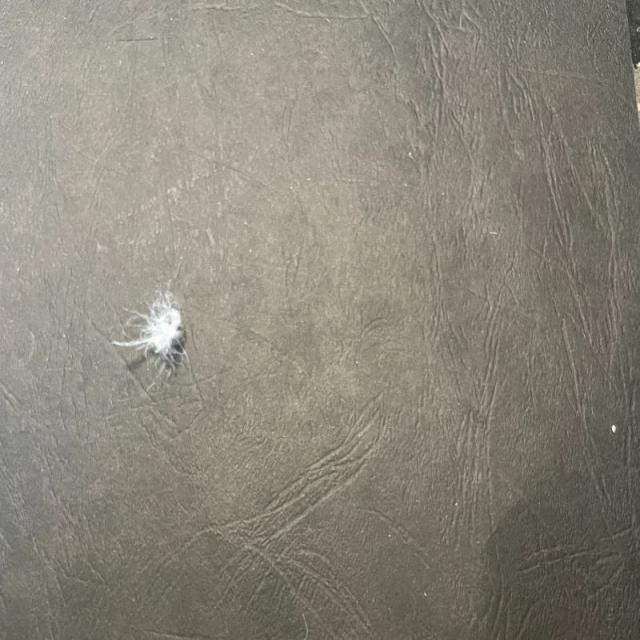feather: (118, 284, 183, 368)
